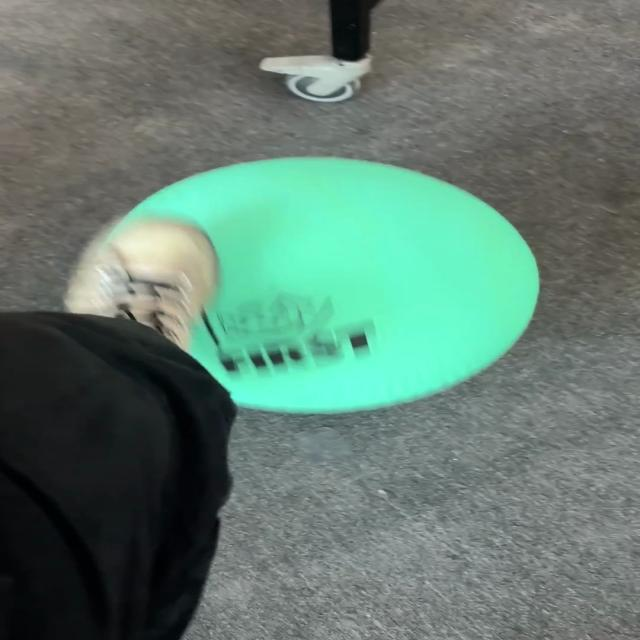Algae: (66, 155, 542, 415)
